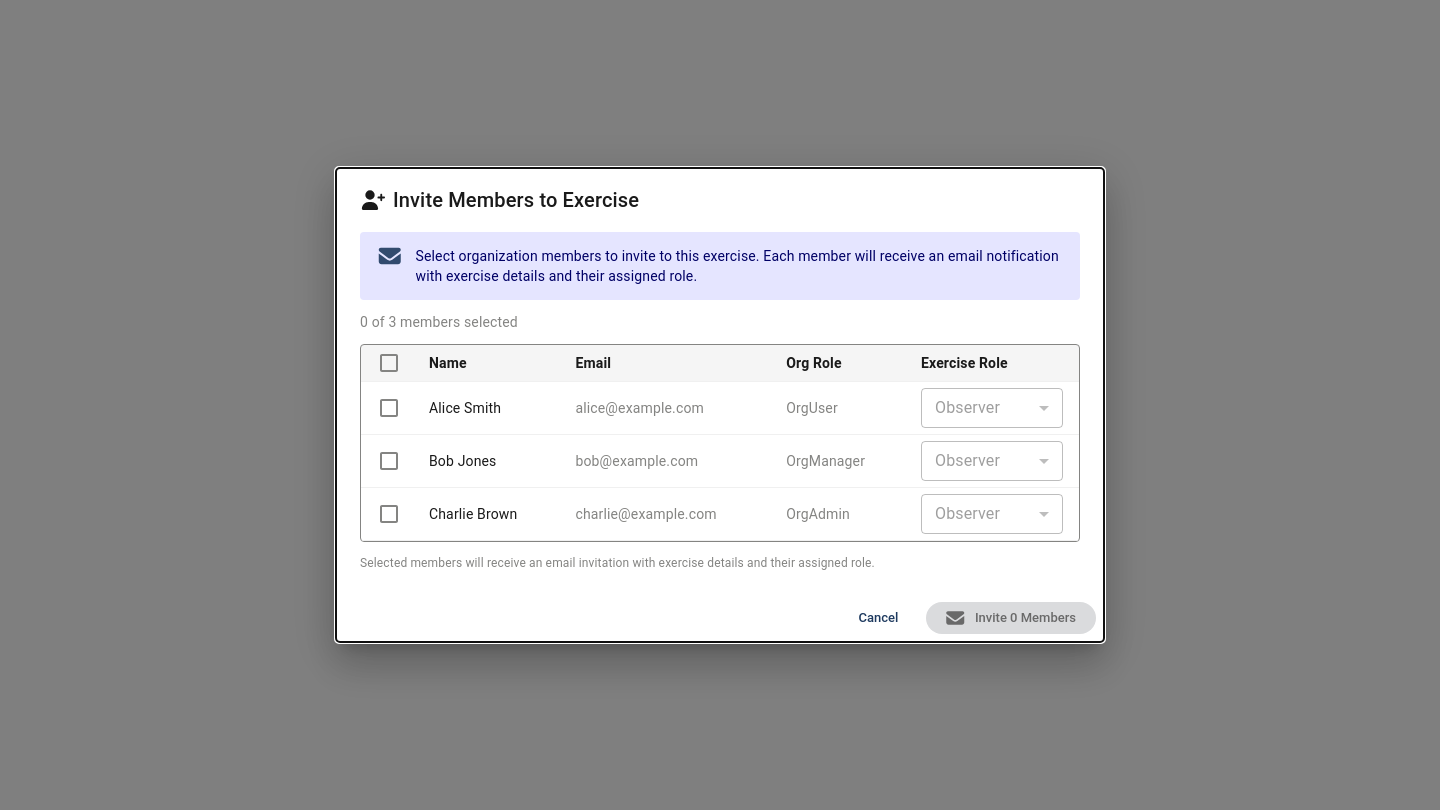
InviteMembersDialog › should handle select all functionality
The image size is (1440, 810).
Expected: the text "Alice Smith" is shown, [429, 400, 501, 416]
# Click select all checkbox
Click the checkbox named "Select all members" at (389, 363), box [377, 351, 401, 375]
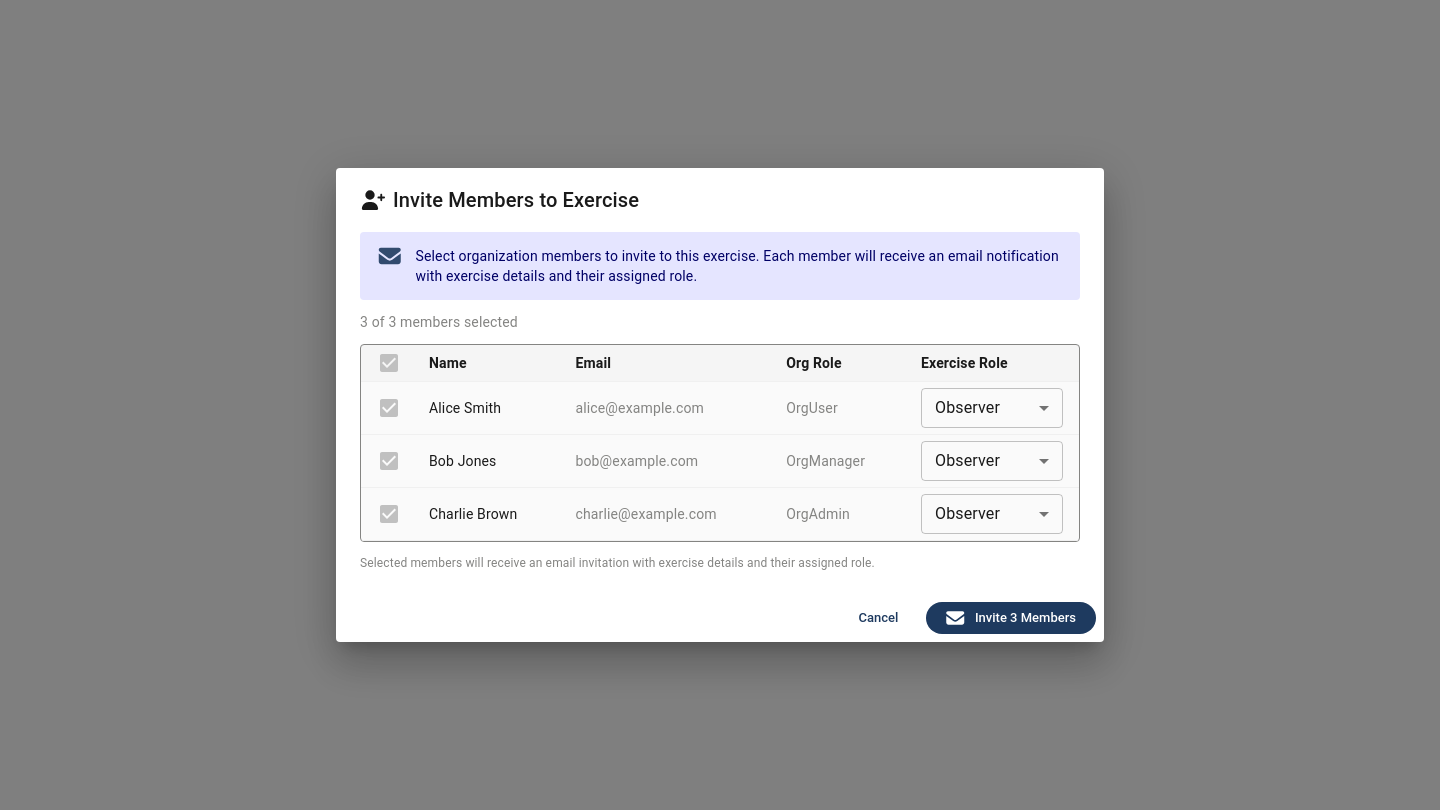
Now the text "3 of 3 members selected" is shown, box [360, 312, 518, 332]
Now the button "Invite 3 Members" is shown, box [926, 602, 1096, 634]
